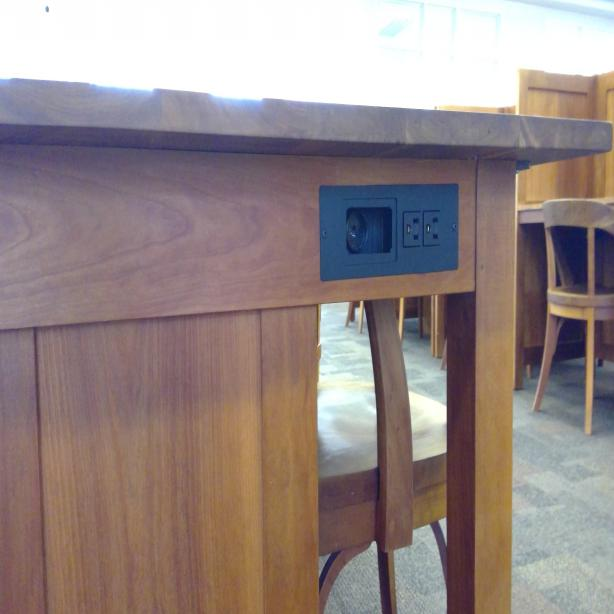typeb: (402, 210, 422, 250), (422, 210, 442, 248)
